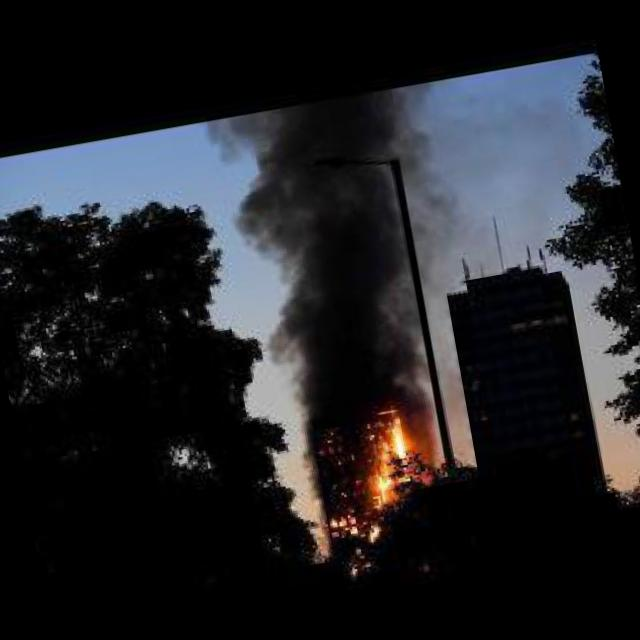fire: (357, 399, 428, 496), (321, 503, 384, 552)
smoke: (232, 95, 432, 419)
